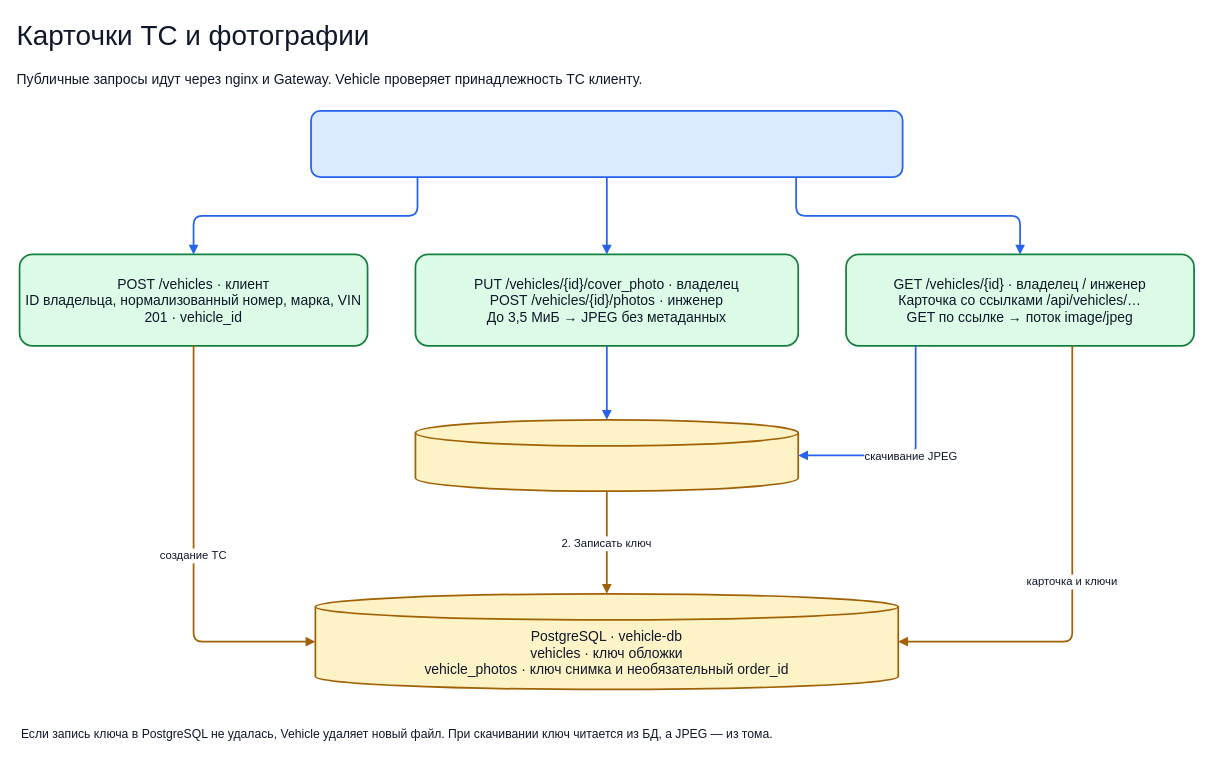
This 1213x762 diagram has some shape labels left out. Here are the shapes that lost their labels. From the top down, the centre of each, then its label:
At (x=606, y=143): "Клиент или инженер → nginx → Gateway Роль и ID из JWT → доверенные заголовки".
At (x=606, y=455): "1. Записать JPEG в том Vehicle Имя файла — UUID".
